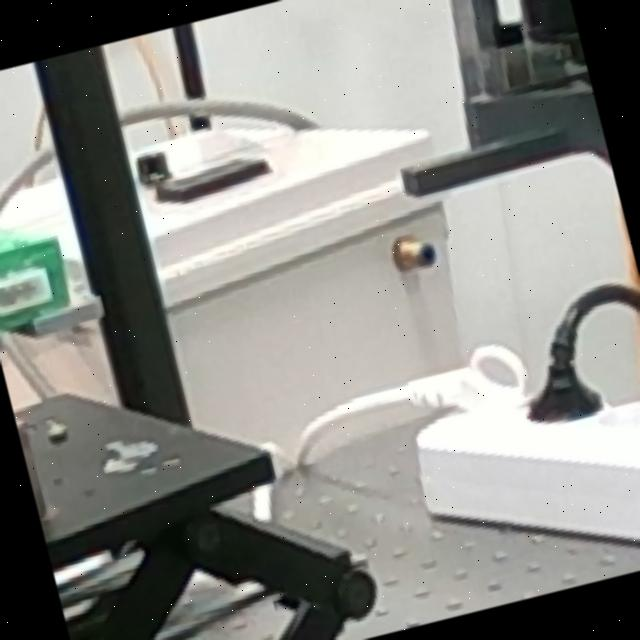Connector-Target: (0, 237, 80, 337)
